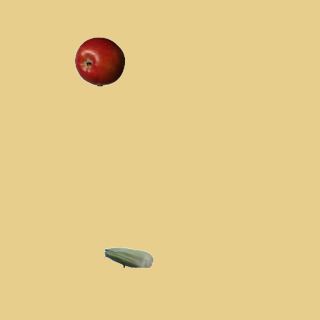Apple Braeburn: (74, 36, 124, 86)
Corn Husk: (103, 232, 153, 282)
